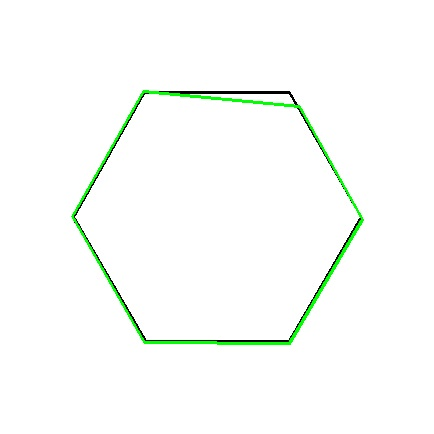line_segment: (72, 90, 363, 344)
